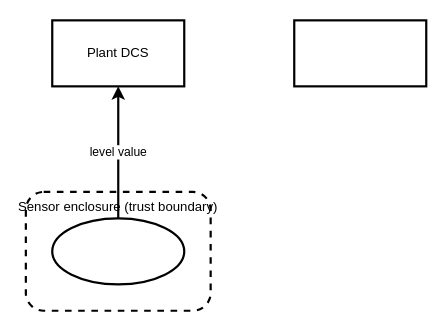
Some shapes in this 447 by 330 pixel diagram are drawn without their labels. Here are the shapes that lost their labels. From the top down, the centre of each, then its label:
At (360,53): "Maintenance app".
At (118,251): "RL-100 sensor".
